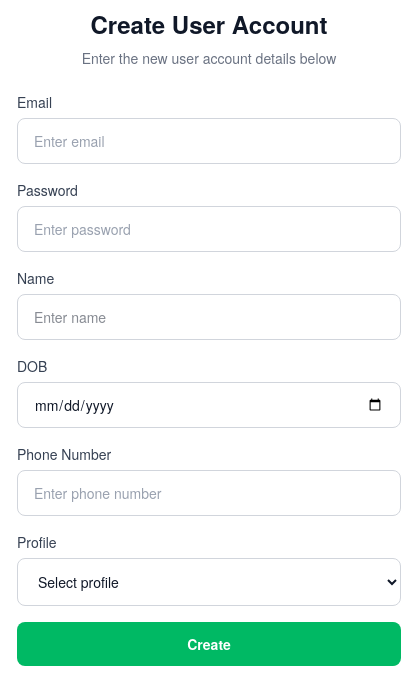
Scenario: CreateAccountPage › blocks submission when required fields are empty
Click the button "Create": (209, 644) x1=17 y1=622 x2=401 y2=666
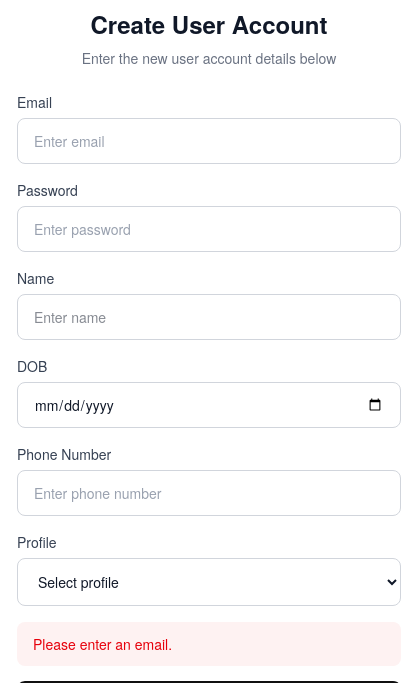
expect the text "Please enter an email." is shown: met, box x1=33 y1=634 x2=172 y2=654
